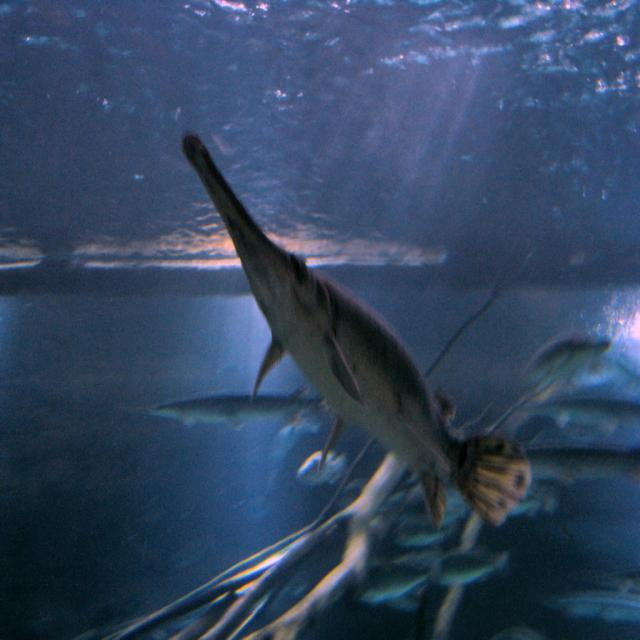Shark: (184, 120, 510, 558)
